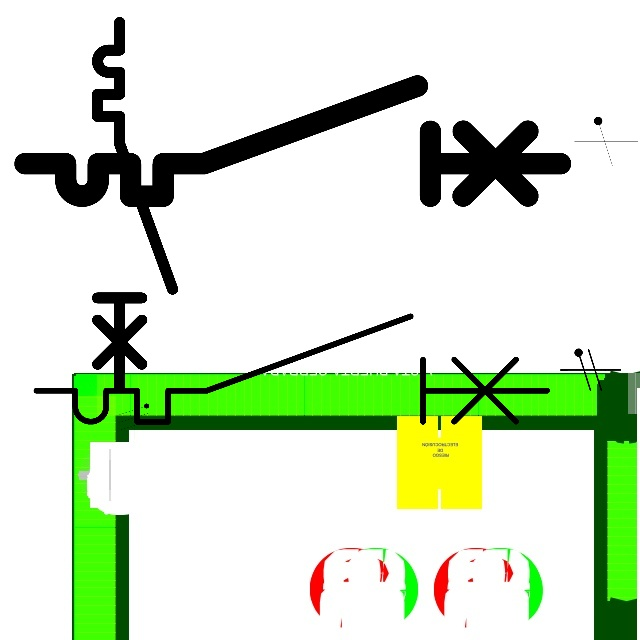interruptor_termomagnetico: (11, 72, 574, 210), (23, 303, 560, 435), (88, 13, 181, 396)
